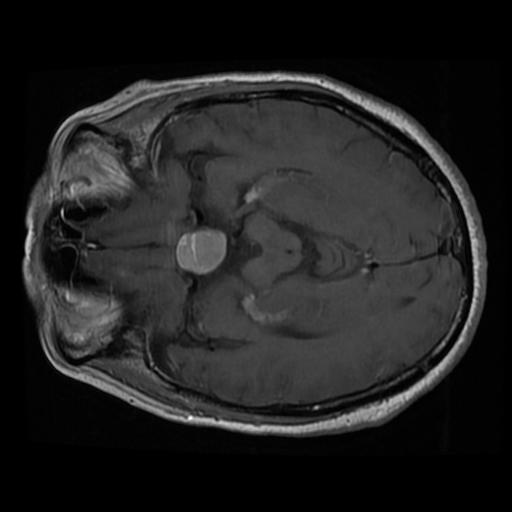pituitary tumour: (173, 229, 227, 277)
